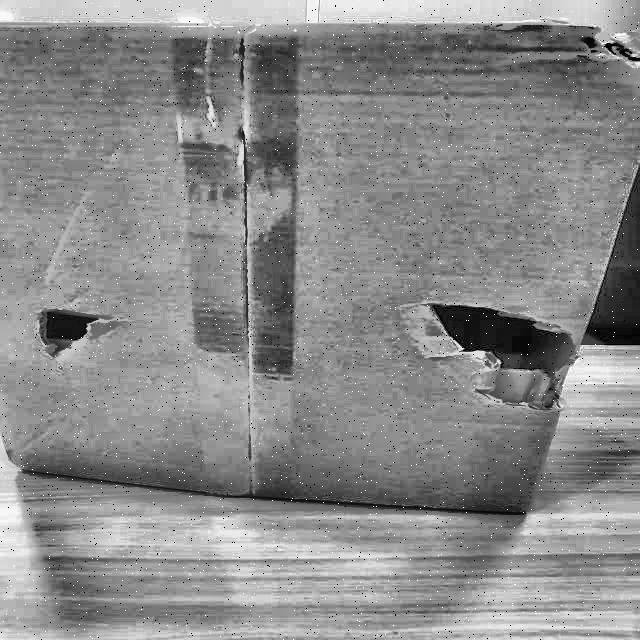box: (1, 17, 640, 525)
hole: (419, 296, 590, 384), (34, 303, 123, 358)
